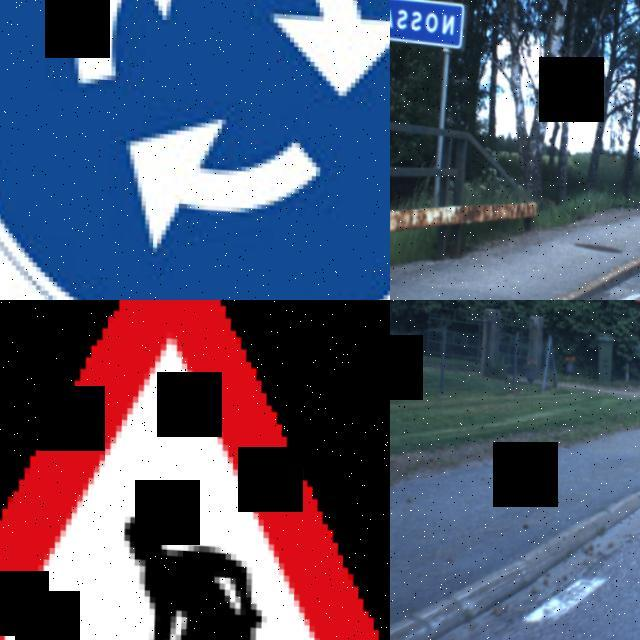16: (0, 0, 390, 300)
88: (390, 0, 469, 53)
Roadworks: (0, 300, 390, 640)
Roundabout: (0, 0, 390, 300)
